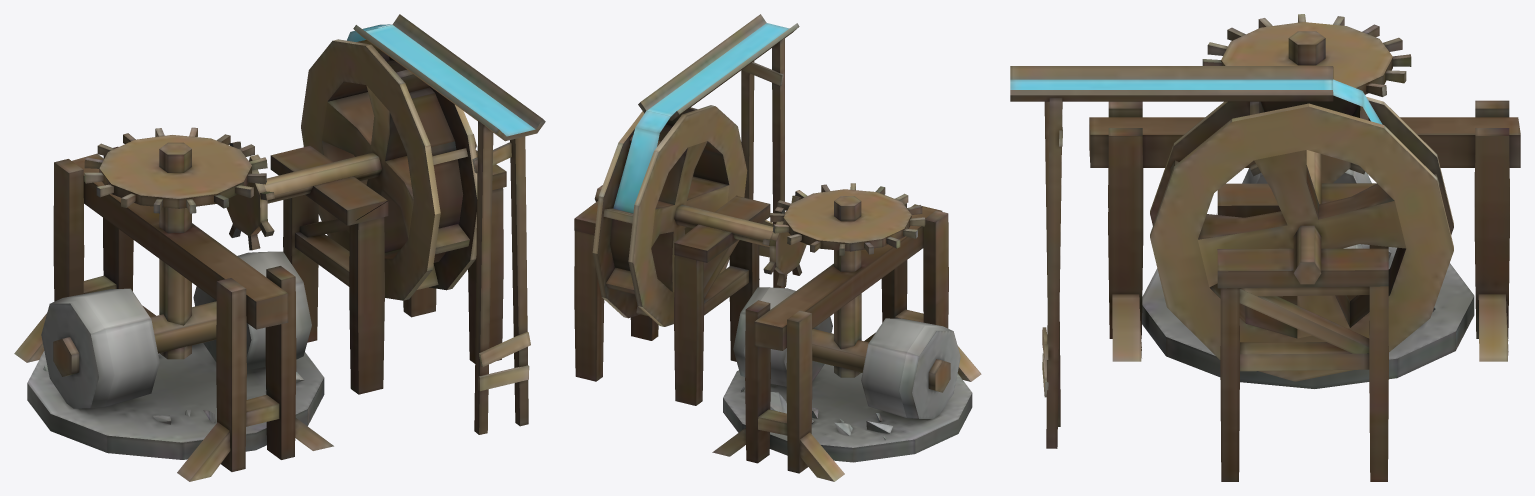
The model's file is stone-crusher.zfix-v1.lod1.glb.
The picture shows the model from 3 angles, left to right: view 1: azimuth 30°, elevation 25°; view 2: azimuth 150°, elevation 25°; view 3: azimuth 270°, elevation 25°; orthographic projection. The views are drawn at different scales.
Visible parts, largest first — view 1: Object_2; view 2: Object_2; view 3: Object_2.
Part boxes in pixels (x1,y1,x2,y2): Object_2: (14, 14, 545, 481); Object_2: (574, 14, 981, 481); Object_2: (1010, 14, 1520, 481).
Size of the model in its own units: 9 by 6.54 by 8.34.
1 material, 1 textured.
